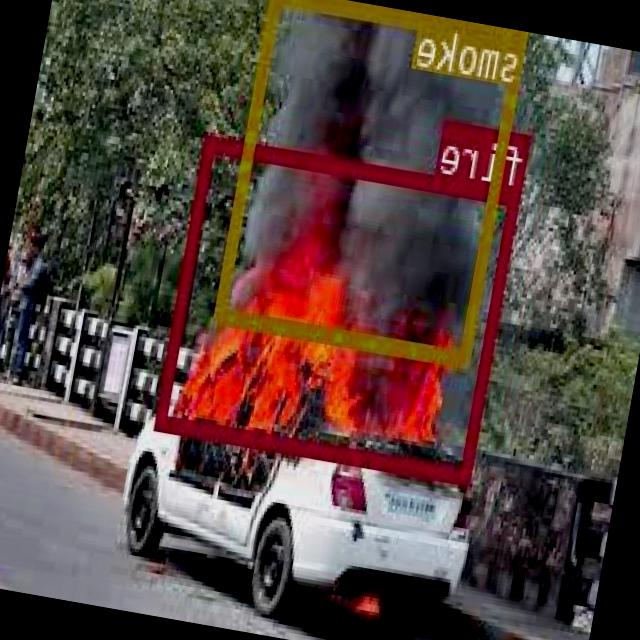fire: (158, 135, 523, 481)
smoke: (216, 0, 530, 366)
